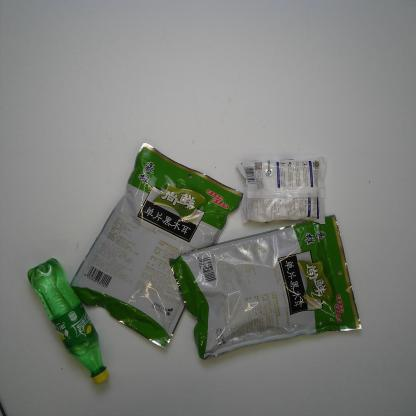Dried Food: (70, 140, 245, 356), (164, 211, 364, 363)
Drink: (26, 257, 111, 386)
Seasoner: (233, 155, 327, 225)
